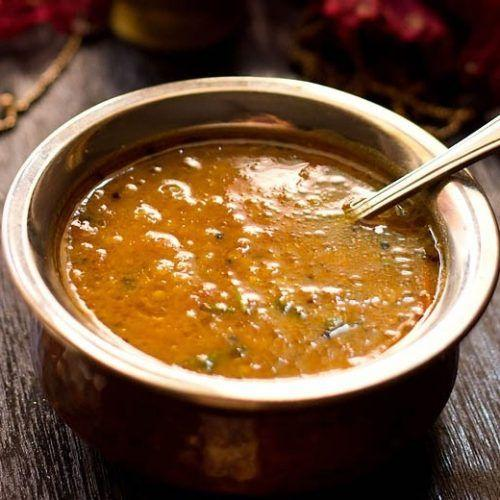daal: (31, 119, 466, 405)
